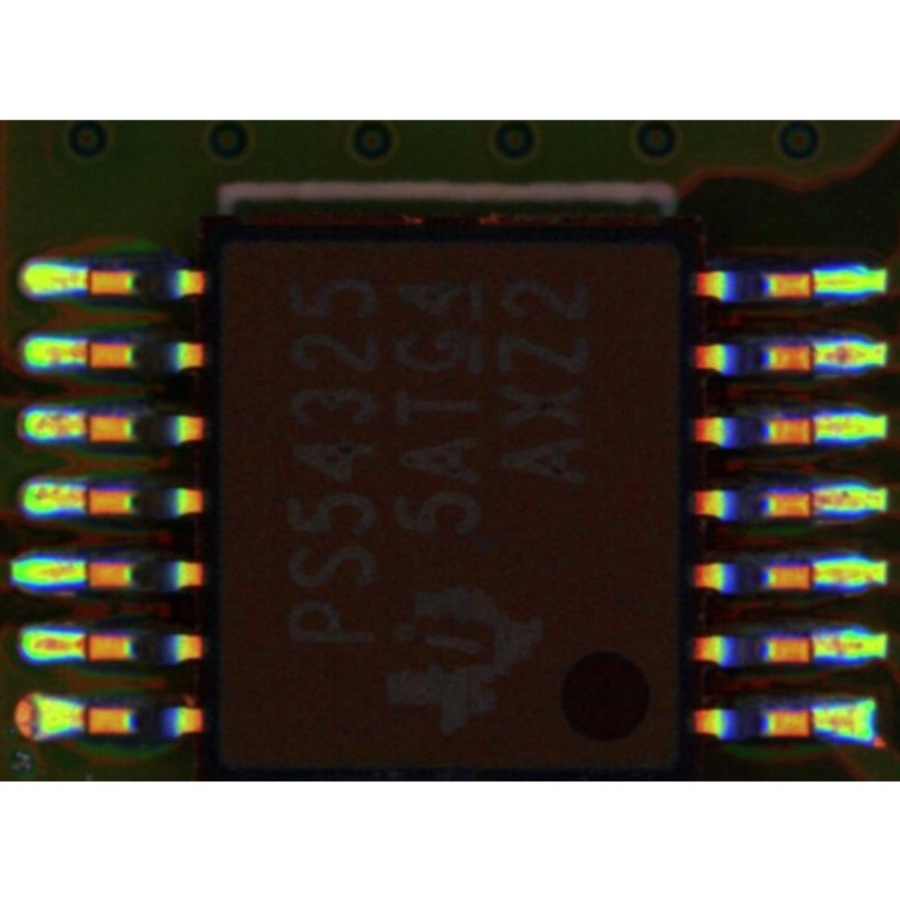Bad_podu: (63, 491, 102, 508), (800, 493, 825, 517), (67, 637, 102, 654), (67, 345, 104, 361), (803, 561, 823, 587)
